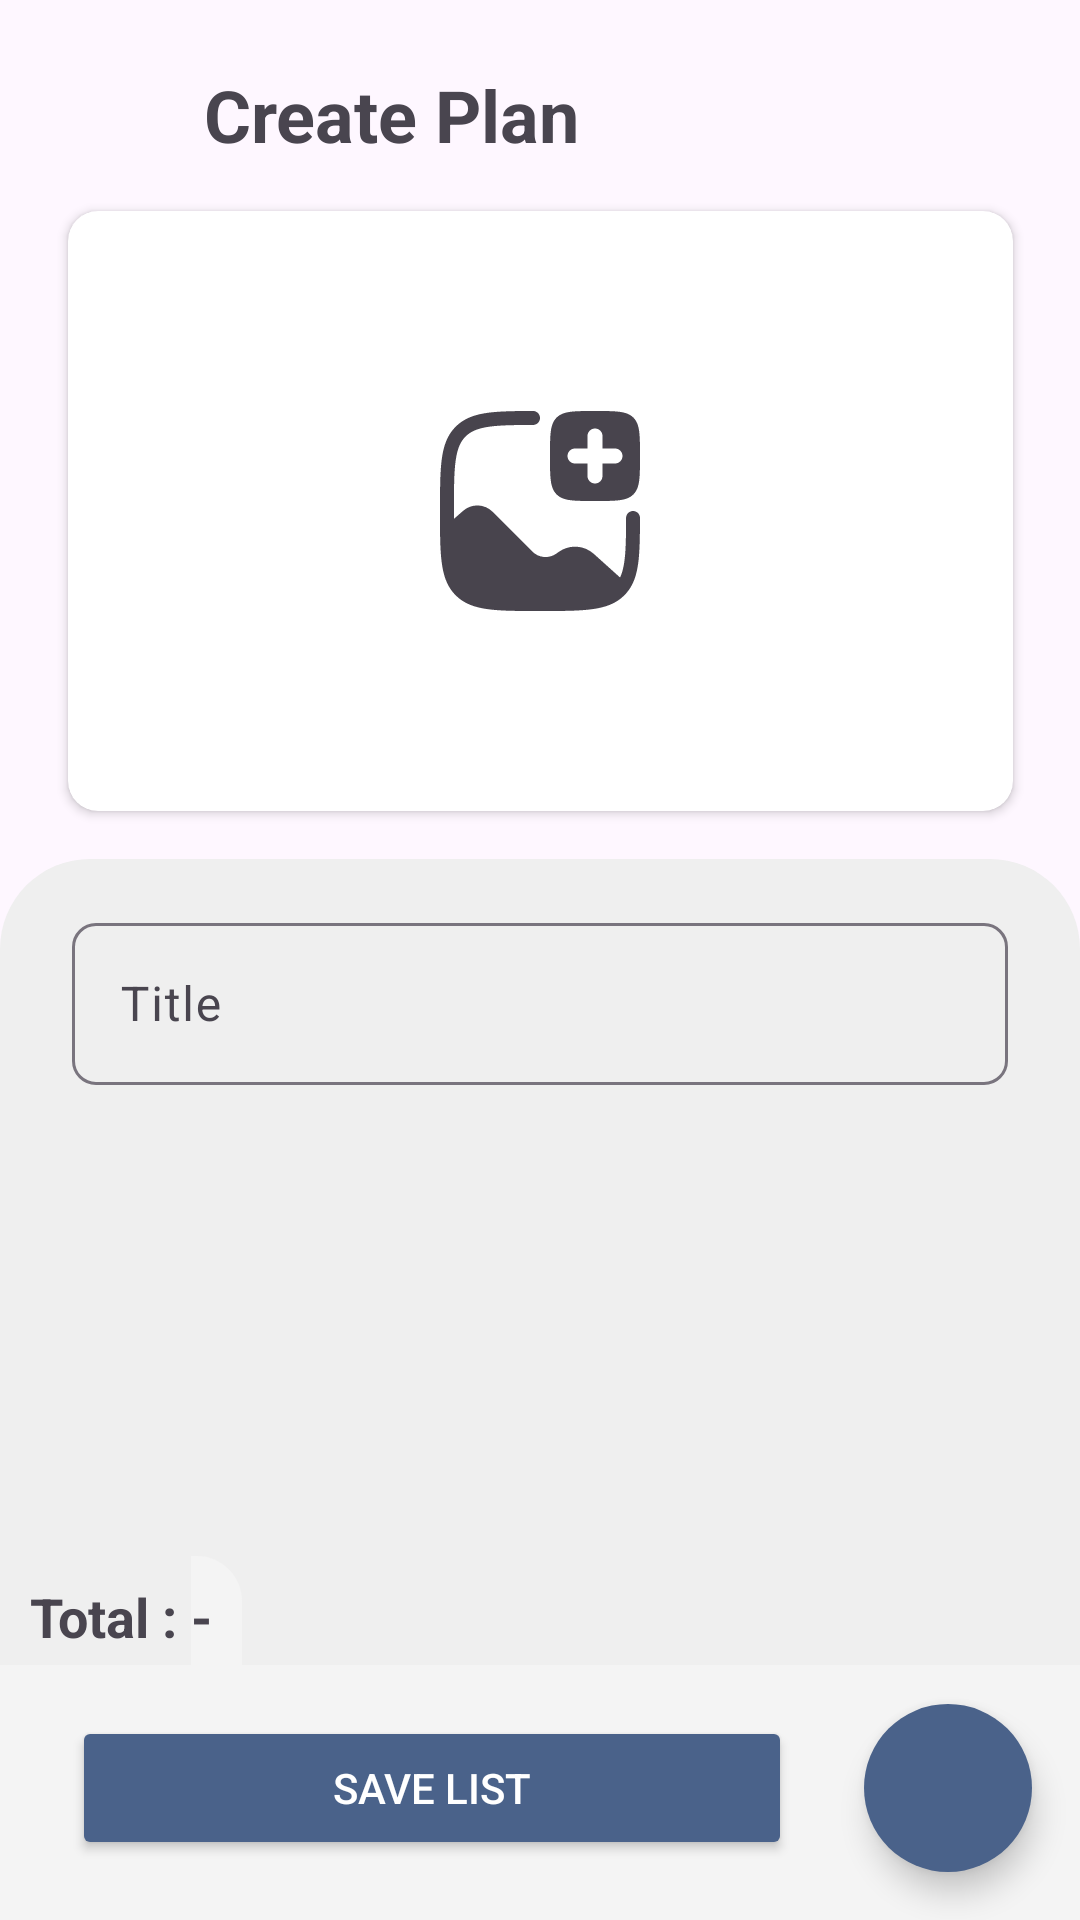

Icon click points for this 1080w x 1920h phone screenshot, format (x=x, y=y):
add thumbnail: (x=540, y=511)
